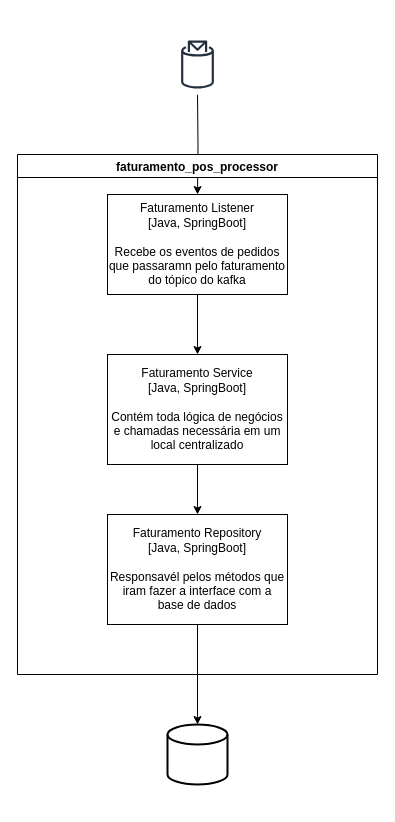
Some shapes in this 395 by 822 pixel diagram are drawn without their labels. The centre of each missing label's shape, as x and y in pixels:
"Comercial_DB" goes at pixel 197 754.
"eventos.faturamento" goes at pixel 197 64.
